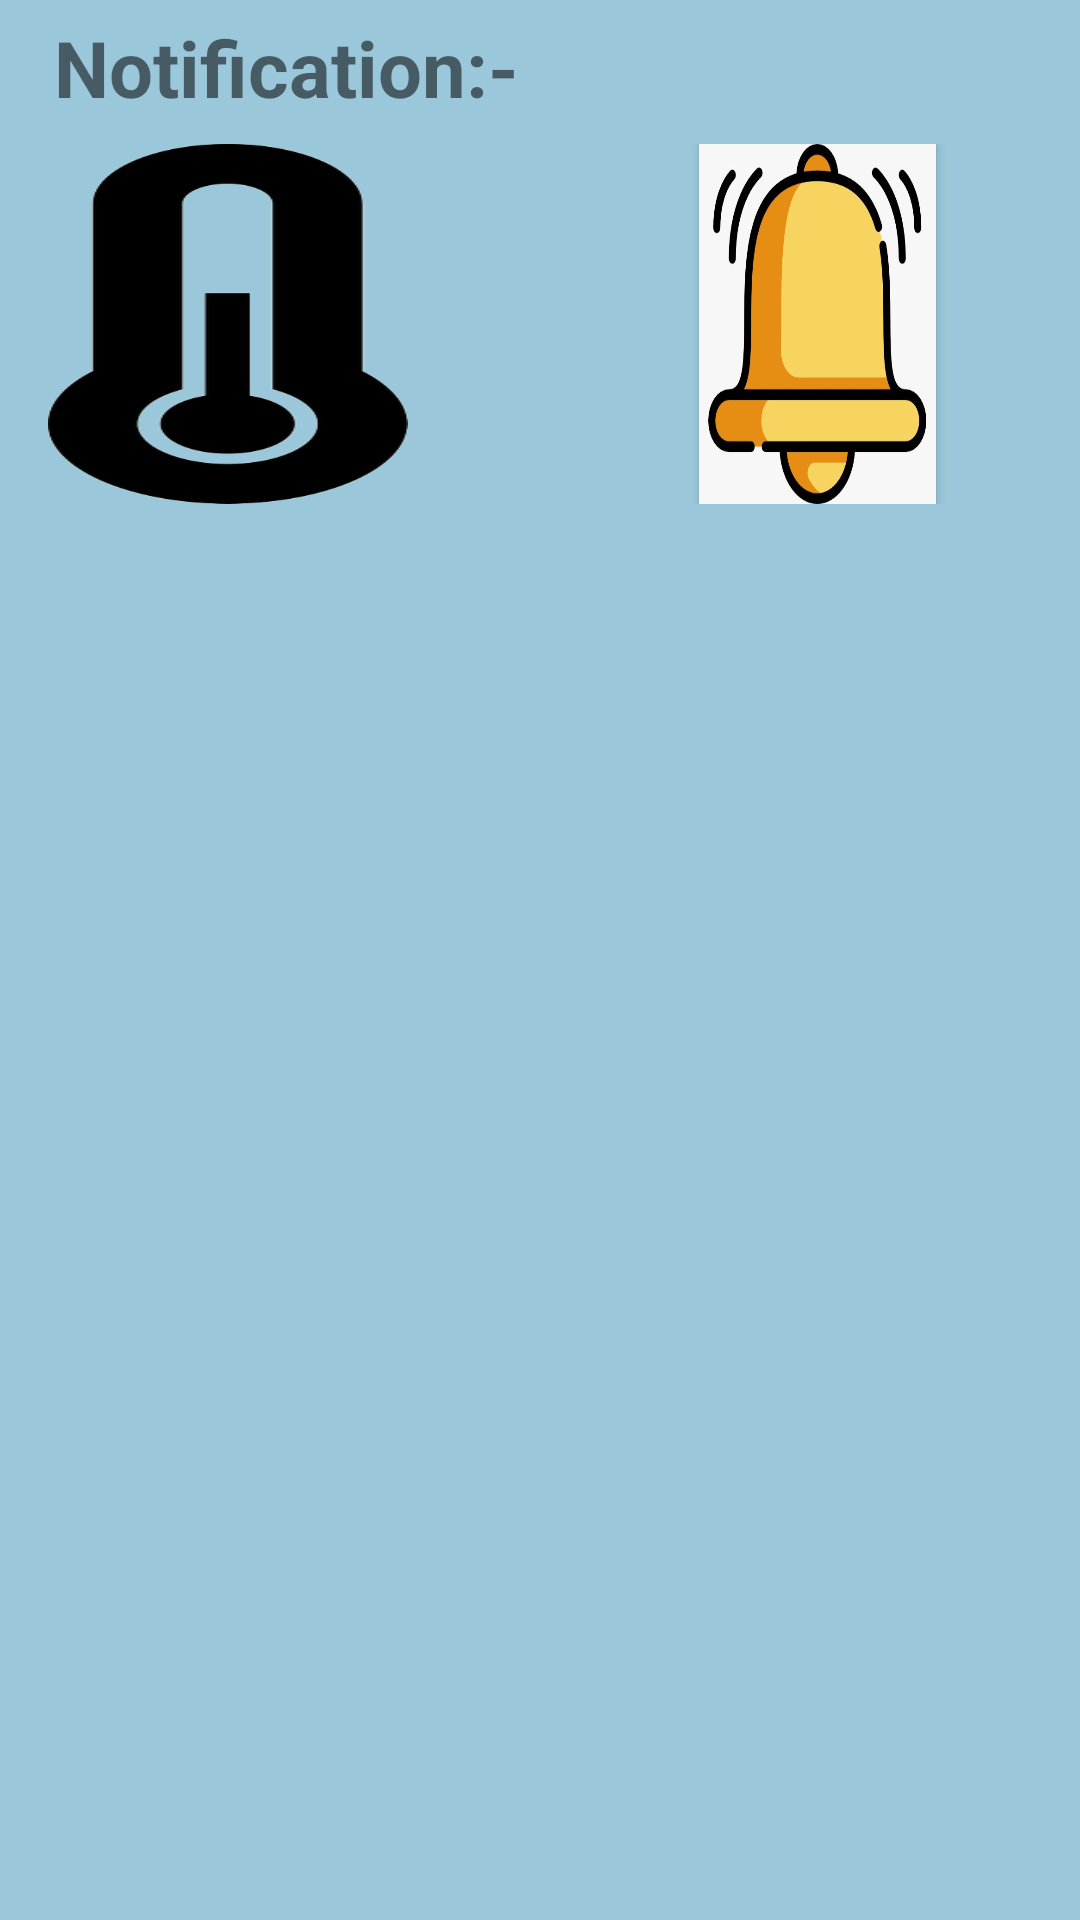

Icon bounding boxes for this 1080w x 1920h phone screenshot, format bbox(x1, y1, x2, y2):
alarm: bbox(699, 144, 936, 504)
